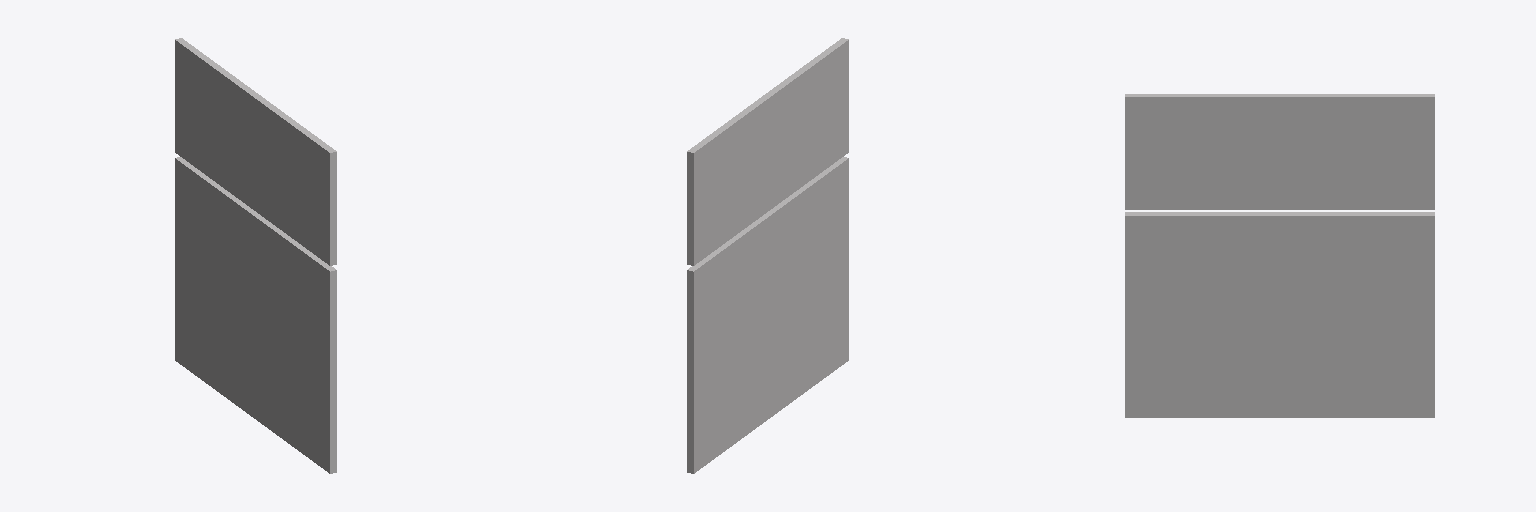
File: BIROLATERALa.obj
3 renders of one model, left to right at view 1: azimuth 30°, elevation 25°; view 2: azimuth 150°, elevation 25°; view 3: azimuth 270°, elevation 25°, orthographic.
Size of the model in its own units: 0.2 by 8.95 by 7.85.